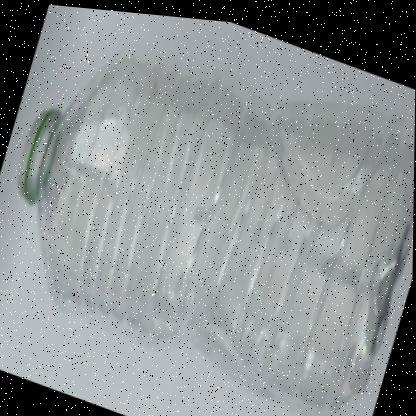open bottle: (1, 2, 211, 353)
